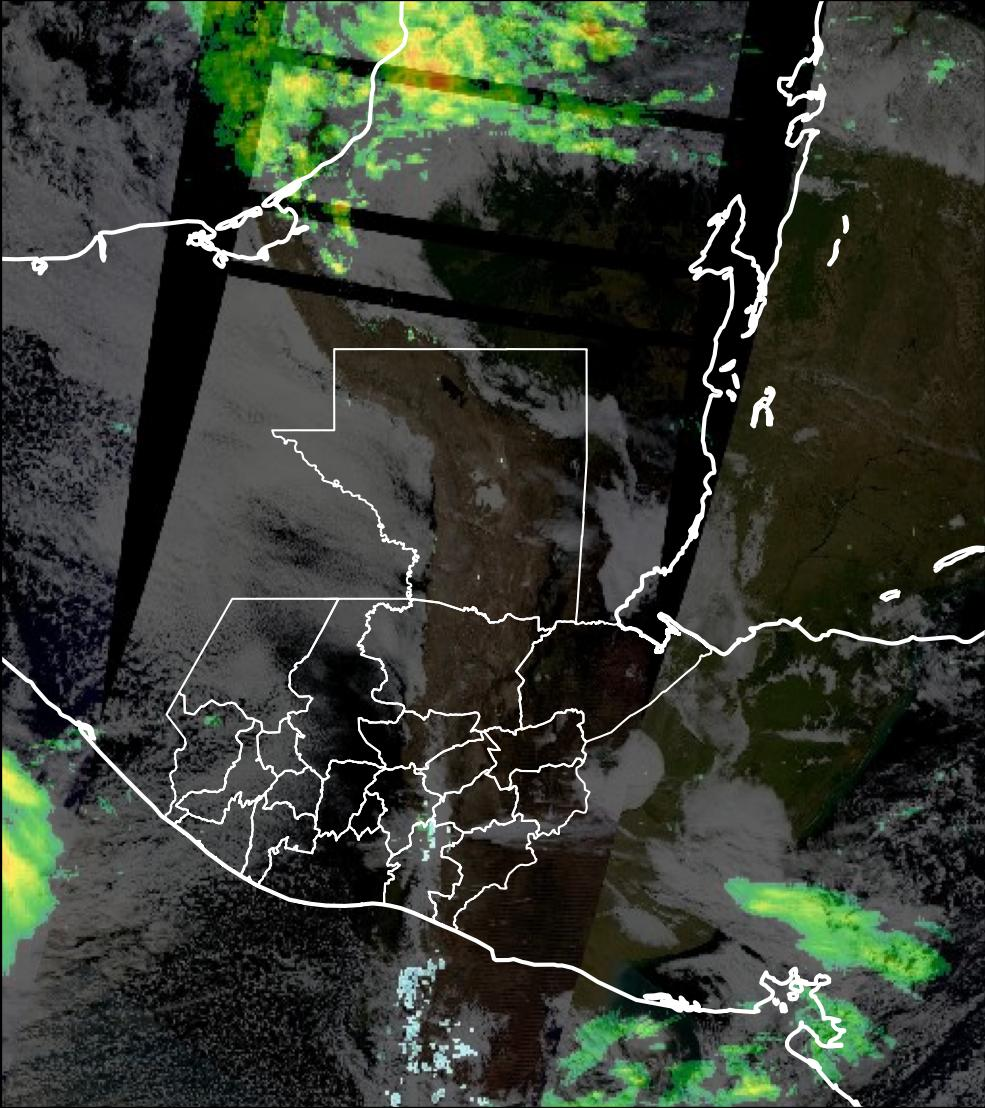precipitacion: (373, 20, 467, 107)
